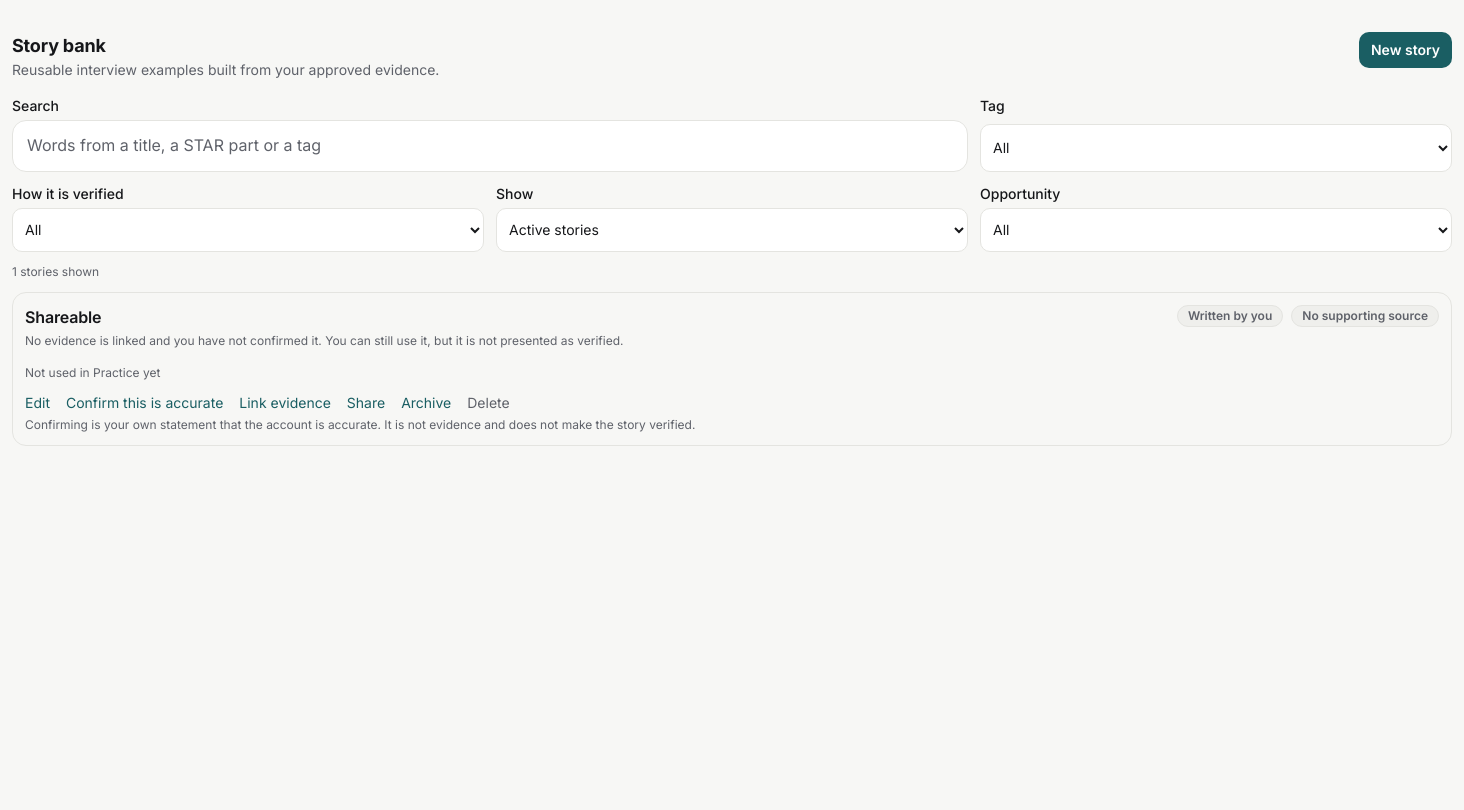
Test case: StoryBank: sharing is an explicit, view-only, revocable grant › explains what a member can see, shares only on the click, and stops sharing on request
Click the button "Share": (366, 403) [347,393,385,413]
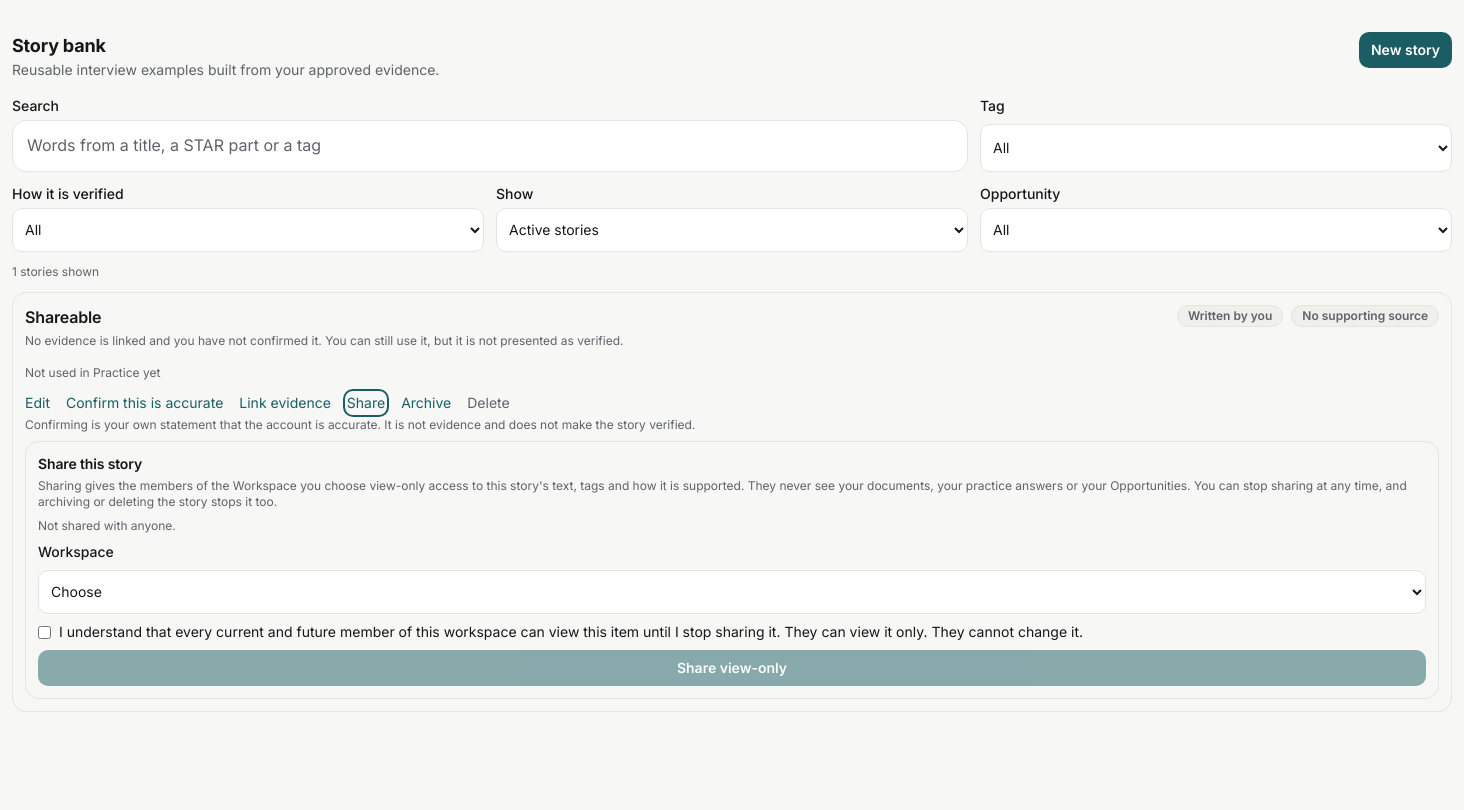
Expected: the text "never see your documents, your practice answers or your Opportunities" is shown, [38,478,1407,509]
Expected: the button "Share view-only" is disabled, [38,650,1426,686]
Select "Alpha" in the dropdown labelled "Workspace": (732, 592) [38,570,1426,614]
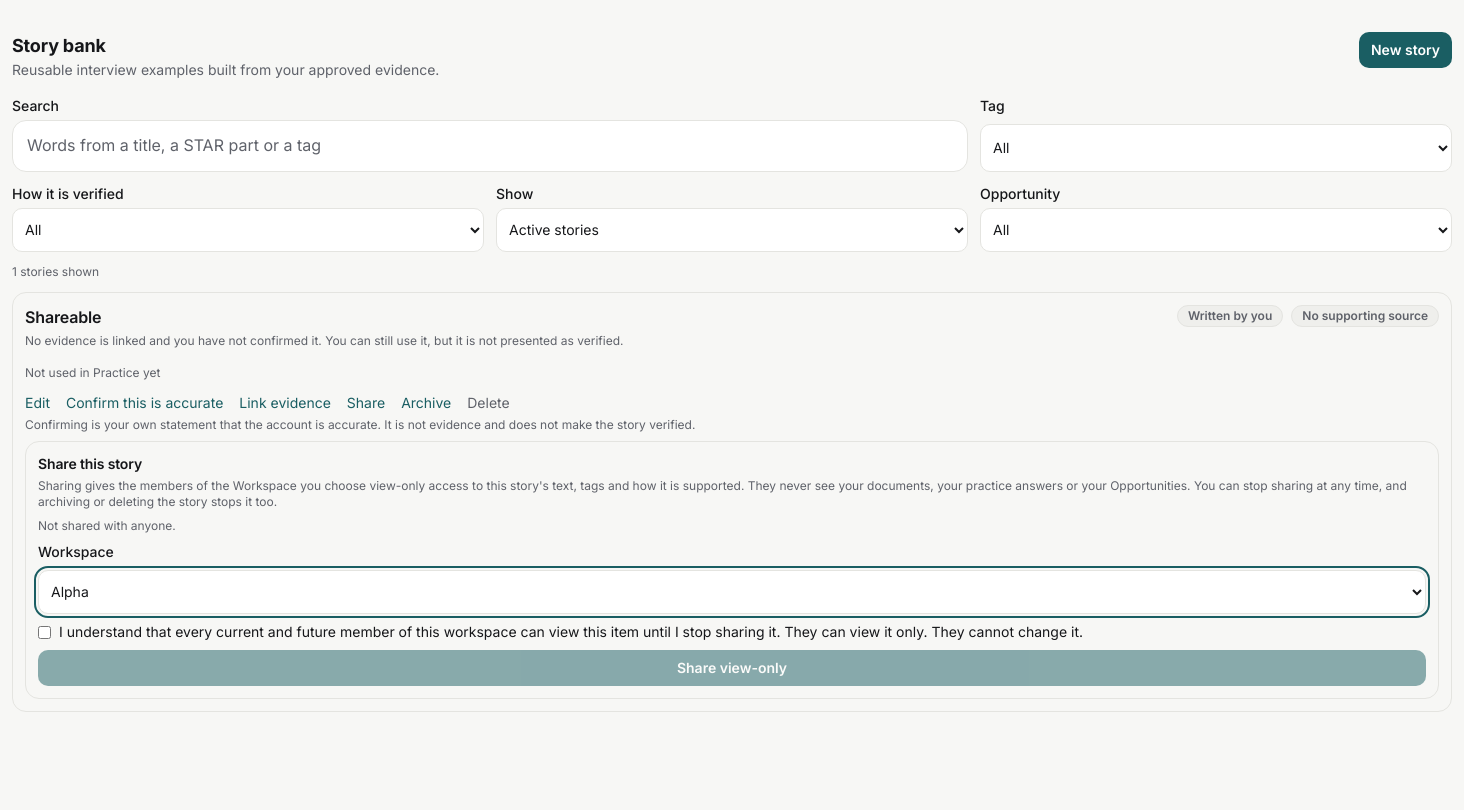
Expected: the button "Share view-only" is disabled, [38,650,1426,686]
Click the checkbox named "I understand that every current and future member of this workspace can view this item": (44, 632) [38,626,51,639]
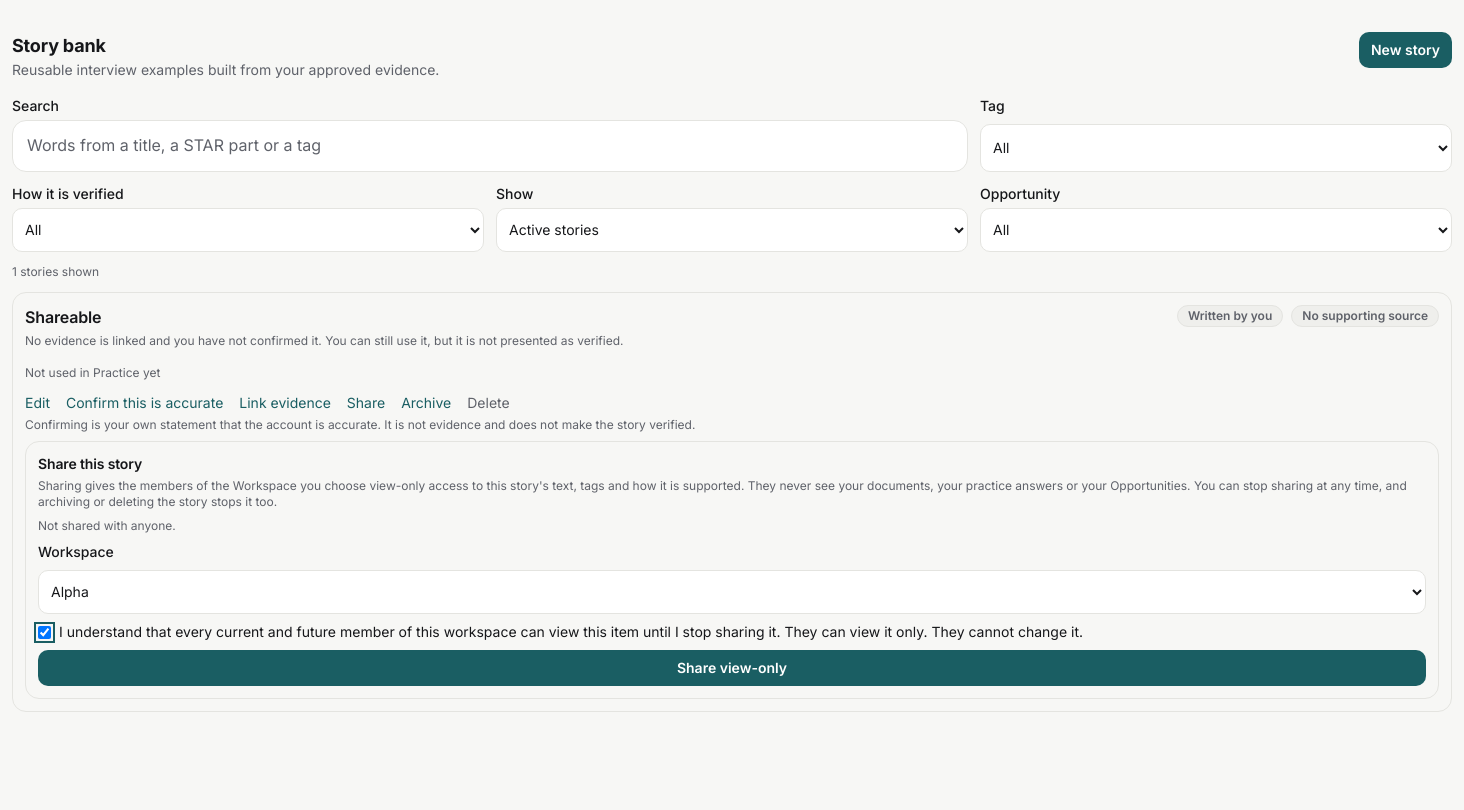
Click the button "Share view-only": (732, 668) [38,650,1426,686]
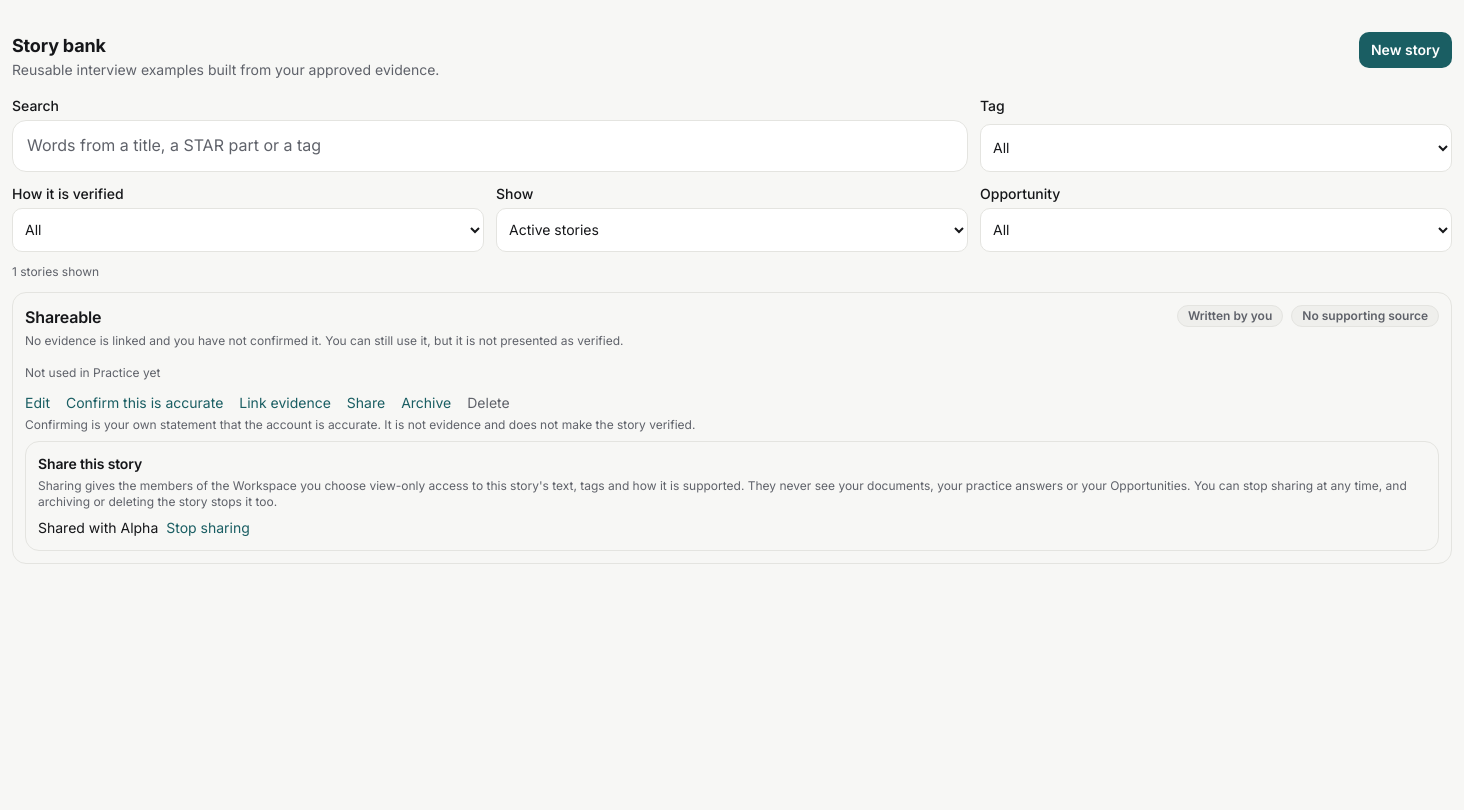
Expected: the text "Shared with Alpha" is shown, [38,518,158,538]
Click the button "Stop sharing": (208, 528) [166,518,250,538]
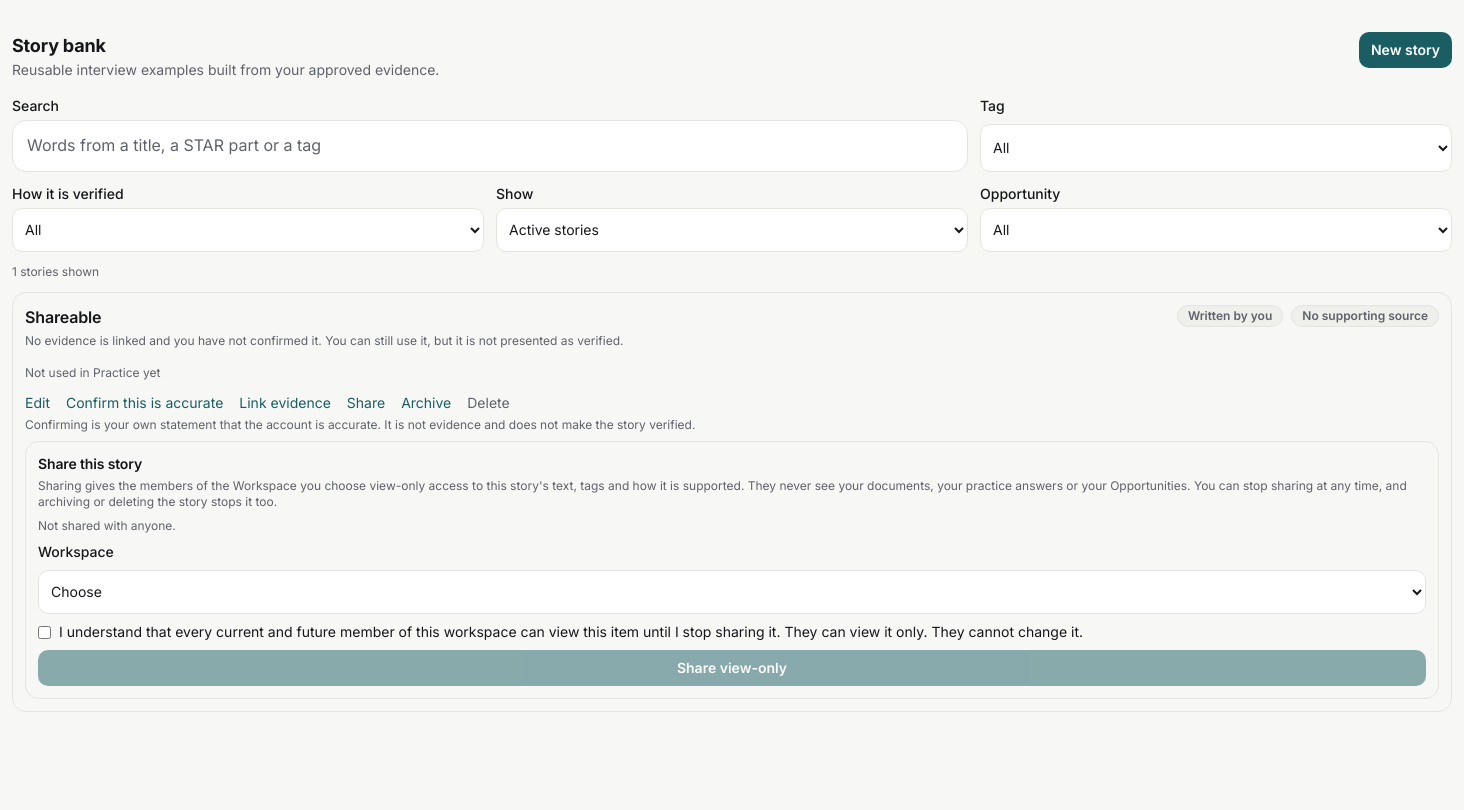
Expected: the text "Not shared with anyone." is shown, [38,518,176,533]
